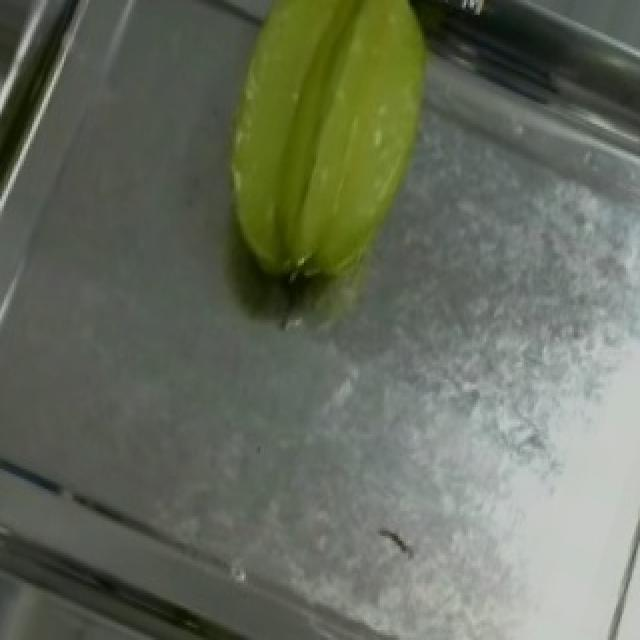fruit: (156, 0, 484, 315)
